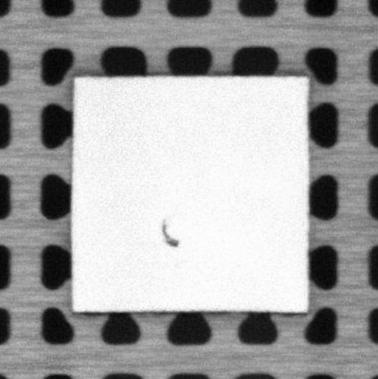DIE_INK: (160, 220, 179, 248)
